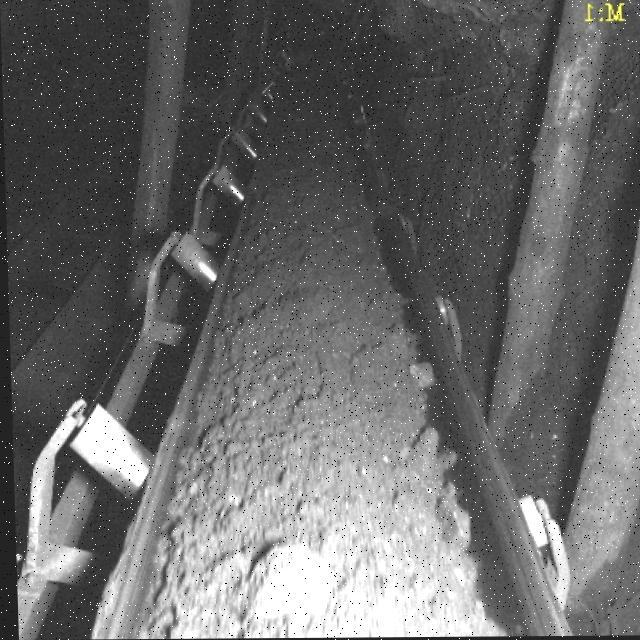large_sized_coal: (244, 549, 331, 621)
